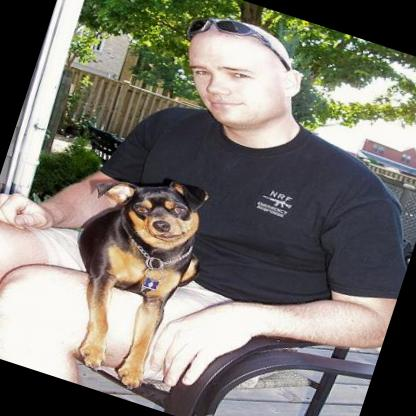miniature_pinscher: (35, 151, 221, 396)
